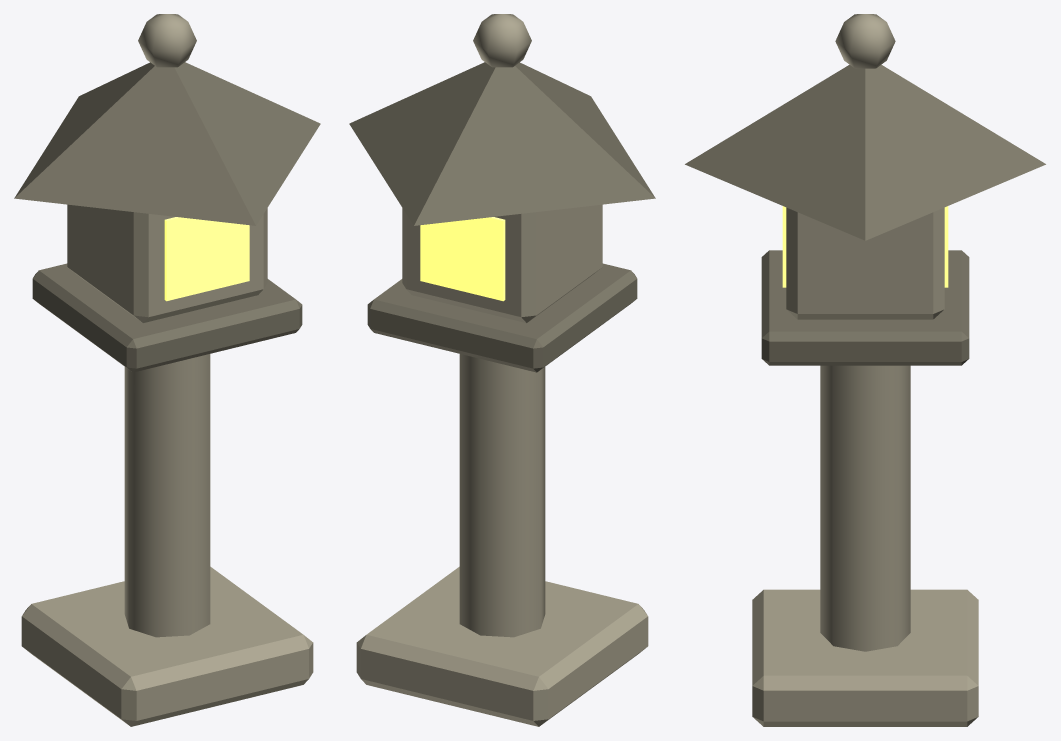
The model's file is lantern_stone.glb.
3 views of the same model, side by side, from view 1: azimuth 30°, elevation 25°; view 2: azimuth 150°, elevation 25°; view 3: azimuth 270°, elevation 25° (orthographic). The views are drawn at different scales.
Visible parts, largest first — view 1: LanternStone; view 2: LanternStone; view 3: LanternStone.
Part boxes in pixels (<box>): LanternStone: <box>14,14,320,726</box>; LanternStone: <box>349,14,655,726</box>; LanternStone: <box>685,14,1045,726</box>.
Size of what is drawn, in the model's own units: 0.96 by 1.96 by 0.96.
